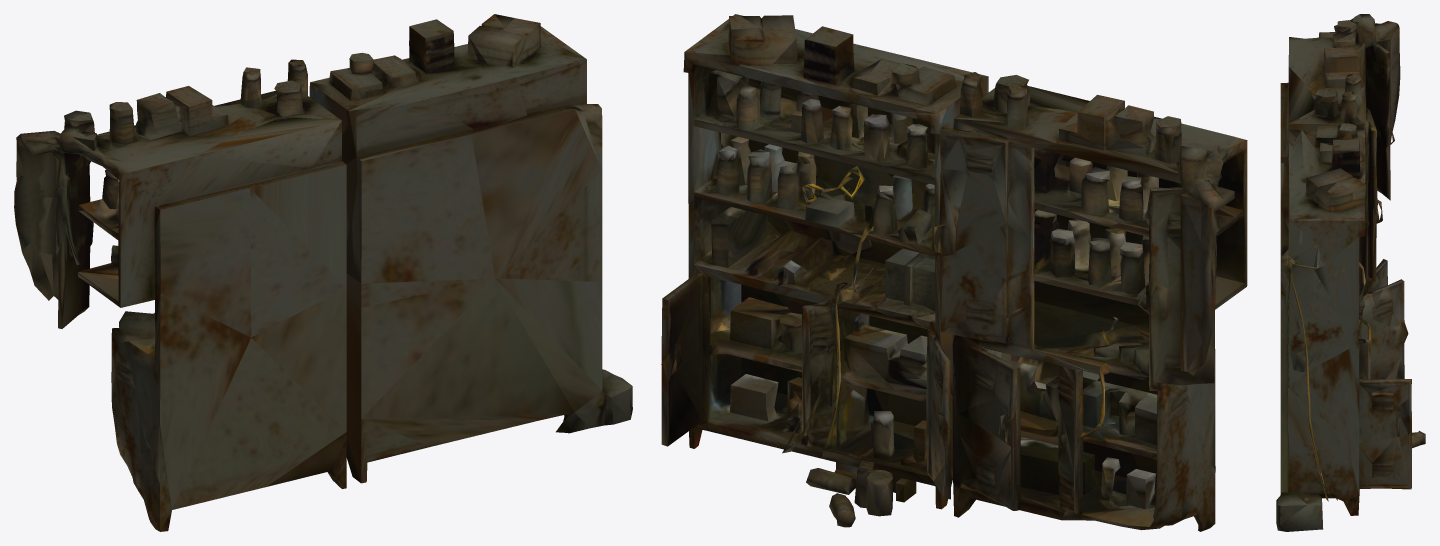
The model's file is estantes1.fbx.
The picture shows the model from 3 angles, left to right: view 1: azimuth 30°, elevation 25°; view 2: azimuth 150°, elevation 25°; view 3: azimuth 270°, elevation 25°; orthographic projection. The views are drawn at different scales.
Visible parts, largest first — view 1: tripo_node_71cd7c01; view 2: tripo_node_71cd7c01; view 3: tripo_node_71cd7c01.
Boxes of the visible parts, bbox=[...] form: tripo_node_71cd7c01: bbox=[14, 14, 632, 531]; tripo_node_71cd7c01: bbox=[661, 14, 1247, 531]; tripo_node_71cd7c01: bbox=[1276, 14, 1425, 531].
Size of the model in its own units: 100 by 70.03 by 29.22.
